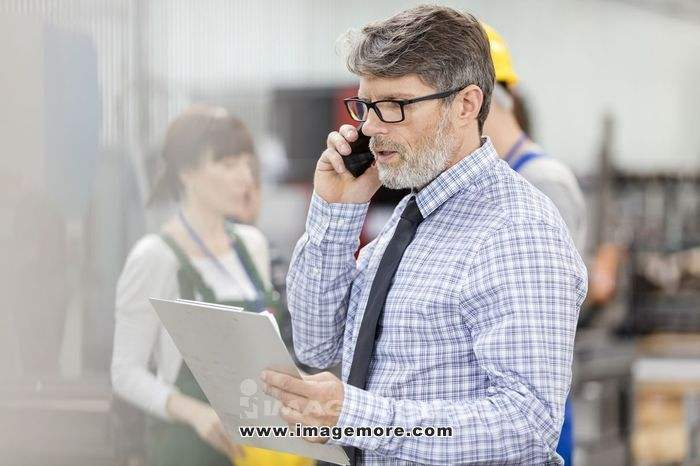talk: (313, 83, 424, 204)
